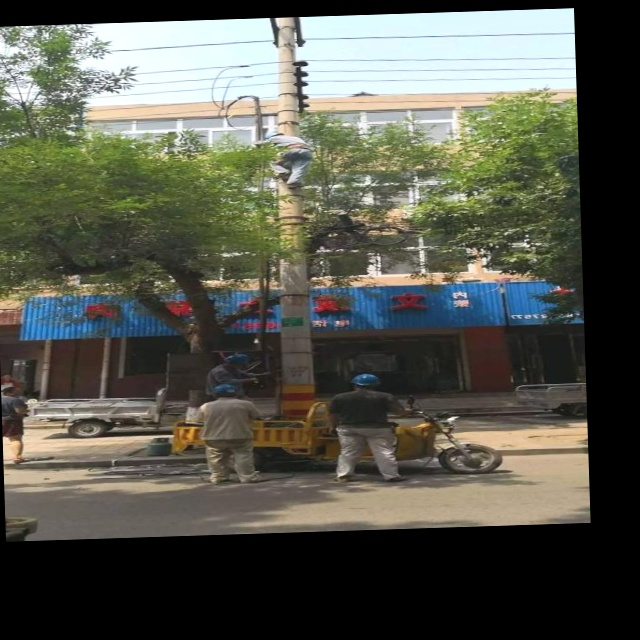Con_Casco: (350, 373, 379, 389)
Sin_Chaleco: (336, 390, 395, 426), (203, 399, 251, 437)
